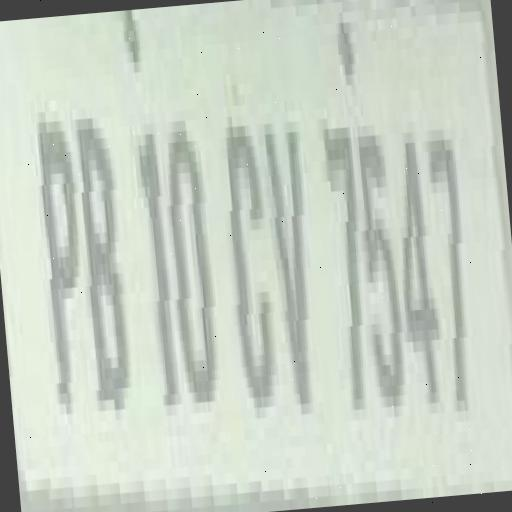number plate: (0, 1, 511, 512)
